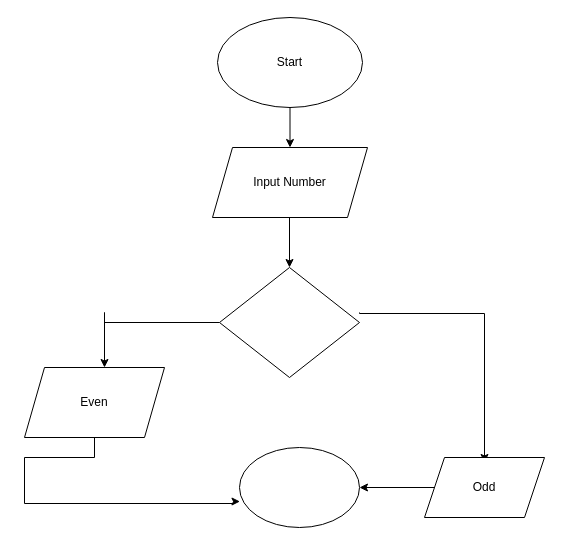
Image size: 562x545. Some labels were removed from this diagram. Each missing label, with the centre of its shape:
Number / 2 is equal to 0: point 289,322
Stop: point 299,487
